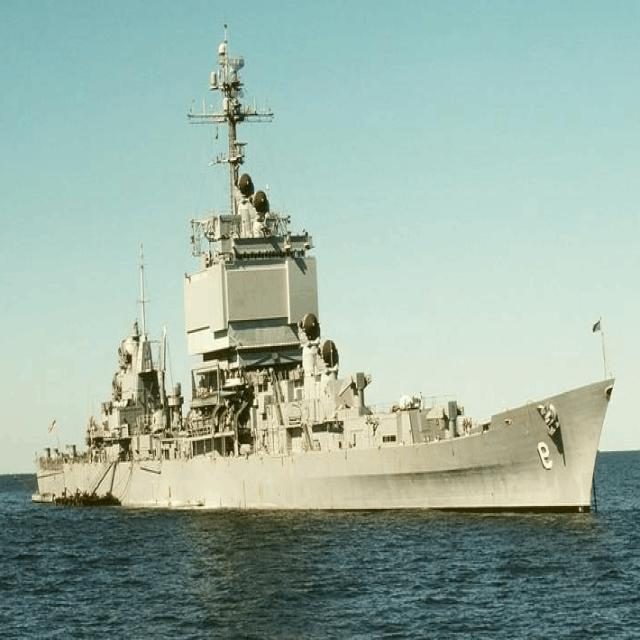navalvessels: (21, 25, 634, 519)
